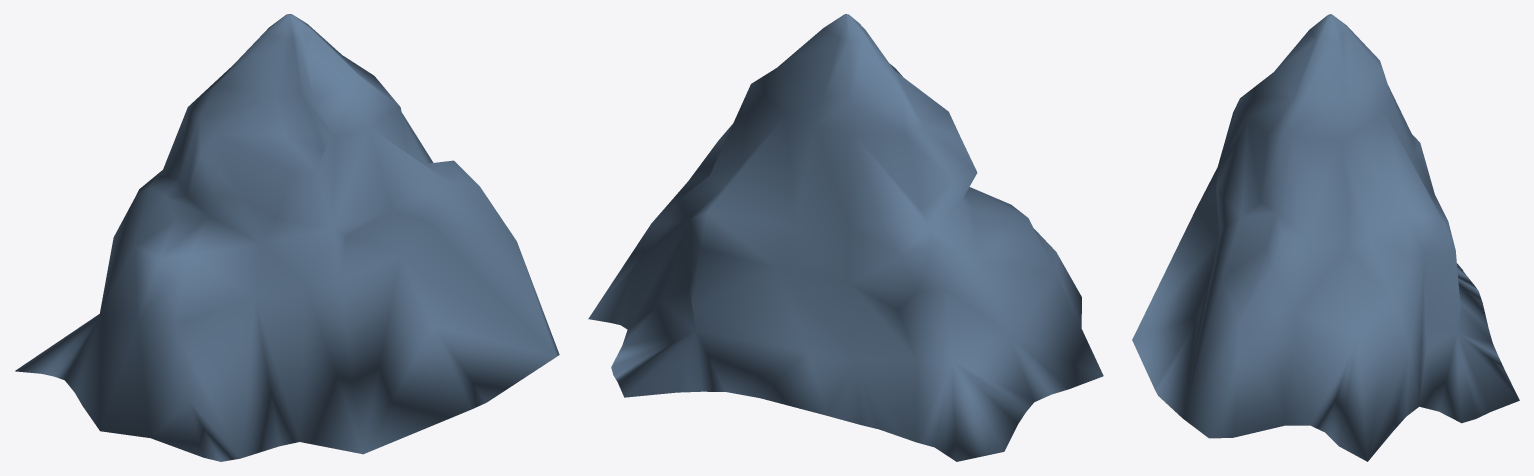
File: monteShaded.fbx
3 views of the same model, side by side, from view 1: azimuth 30°, elevation 25°; view 2: azimuth 150°, elevation 25°; view 3: azimuth 270°, elevation 25° (orthographic). The views are drawn at different scales.
Parts seen in each view (by area): view 1: m1; view 2: m1; view 3: m1.
Boxes of the visible parts, x1,y1,x2,y2 form: m1: (15, 14, 559, 461); m1: (588, 14, 1103, 461); m1: (1132, 14, 1519, 461).
Bounding box in the file's own units: 41.27 × 30.45 × 31.27.
